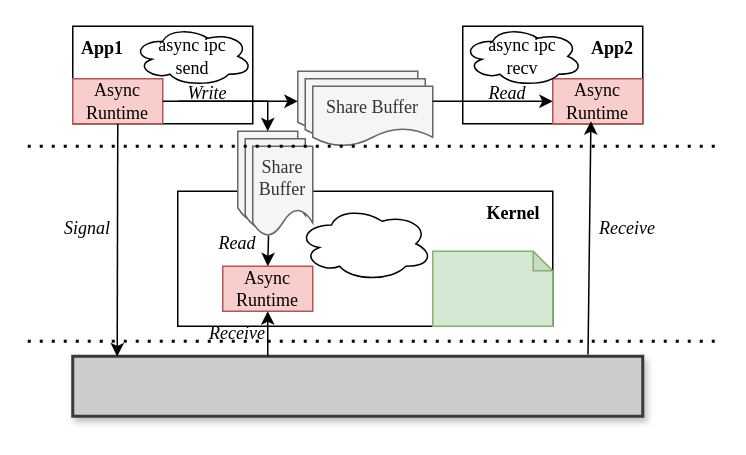
This 746x455 diagram has some shape labels left out. Here are the shapes that lost their labels. From the top down, the centre of each, then its label:
the point at 364,243: async syscall handler
the point at 492,288: UINTC/TAIC Manager
the point at 358,388: HardWare/UINTC/TAIC
